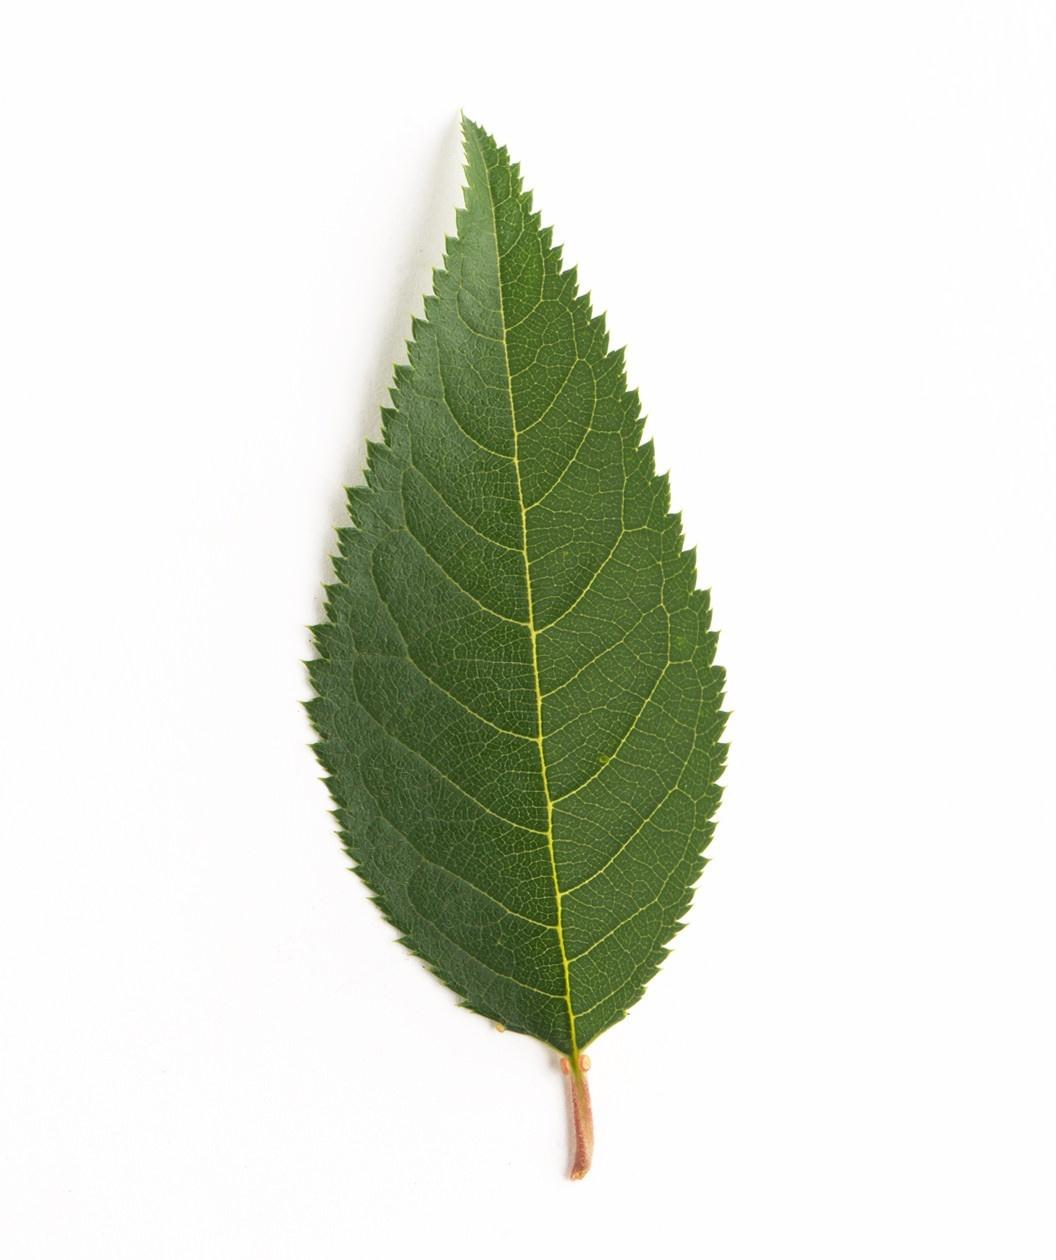Cherry leaf: (294, 103, 753, 1053)
